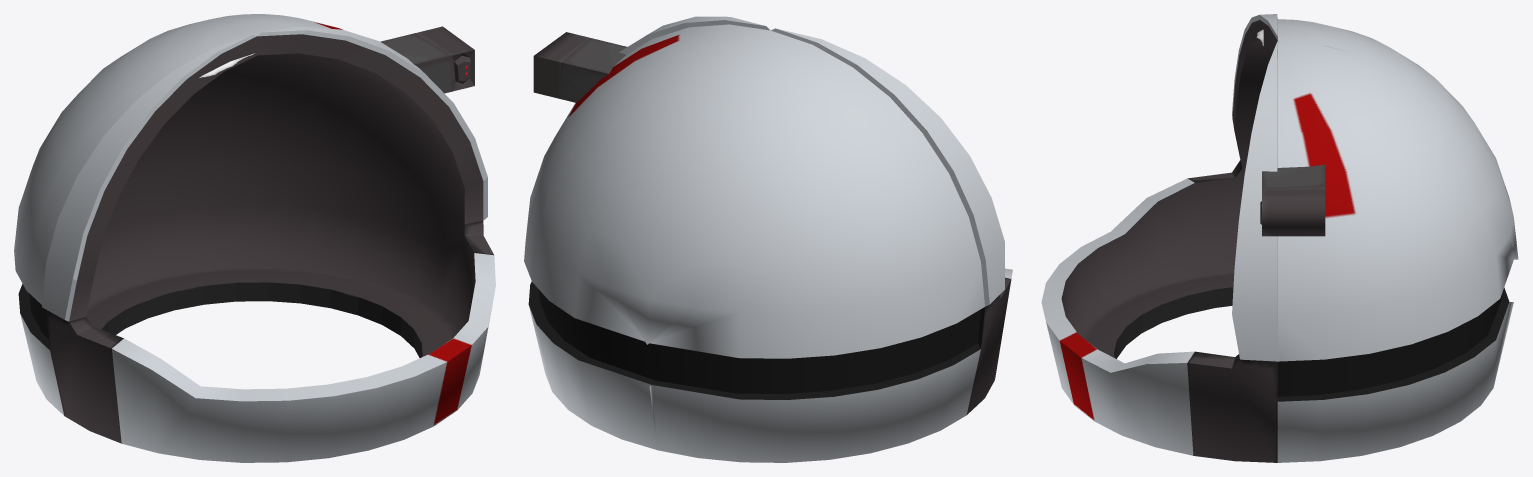
The model's file is SpaceHelmKut.FBX.
3 renders of one model, left to right at view 1: azimuth 30°, elevation 25°; view 2: azimuth 150°, elevation 25°; view 3: azimuth 270°, elevation 25°, orthographic. The views are drawn at different scales.
Visible parts, largest first — view 1: Helm; view 2: Helm; view 3: Helm.
Boxes of the visible parts, bbox=[...] form: Helm: bbox=[14, 14, 495, 462]; Helm: bbox=[524, 16, 1012, 462]; Helm: bbox=[1041, 14, 1518, 462].
Bounding box in the file's own units: 31.5 × 23.57 × 30.55.
